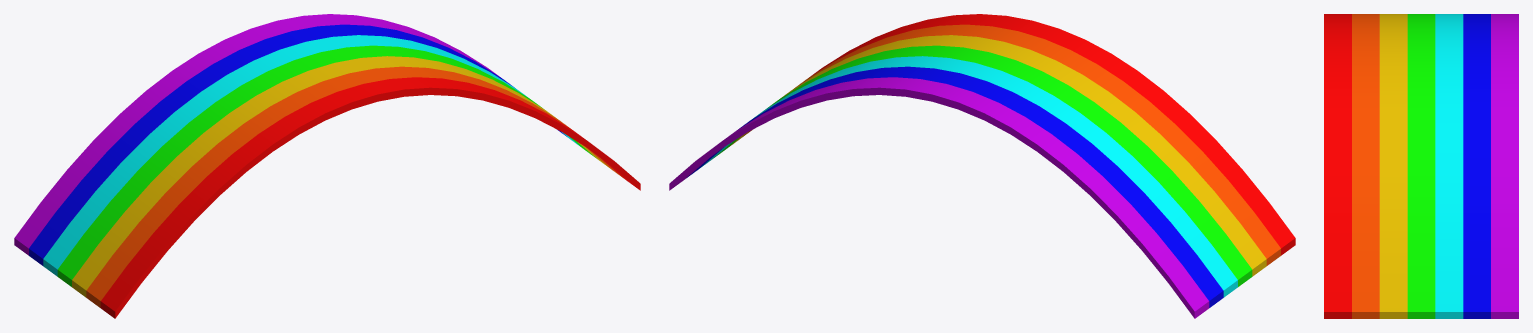
Rendered from rainbow.FBX.
3 renders of one model, left to right at view 1: azimuth 30°, elevation 25°; view 2: azimuth 150°, elevation 25°; view 3: azimuth 270°, elevation 25°, orthographic. The views are drawn at different scales.
Visible parts, largest first — view 1: Box003; view 2: Box003; view 3: Box003.
Boxes of the visible parts, box(x1,y1,x2,y2) form: Box003: box(14, 14, 640, 318); Box003: box(669, 14, 1295, 318); Box003: box(1324, 14, 1518, 318).
Bounding box in the file's own units: 18.32 × 5.35 × 6.08.
